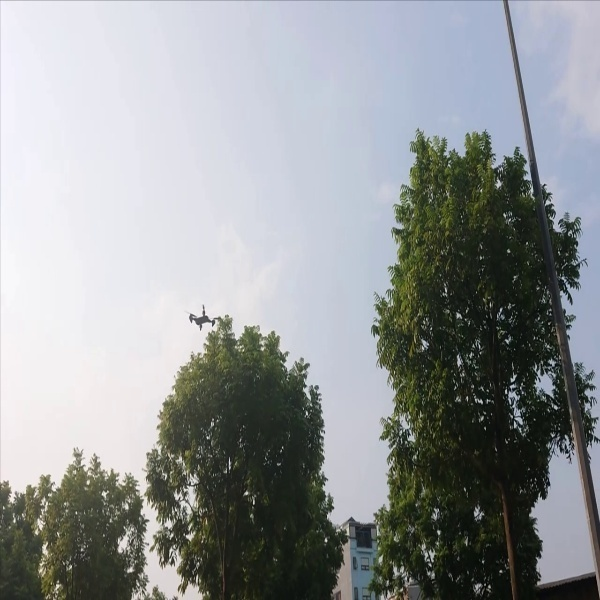drone: (187, 295, 222, 333)
